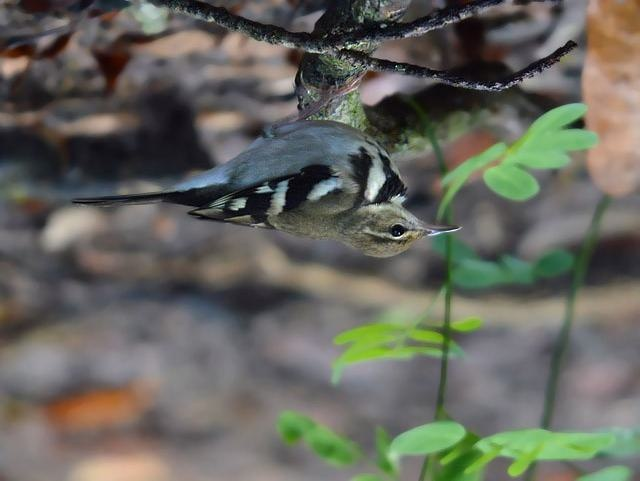wagtail: (218, 115, 463, 259)
